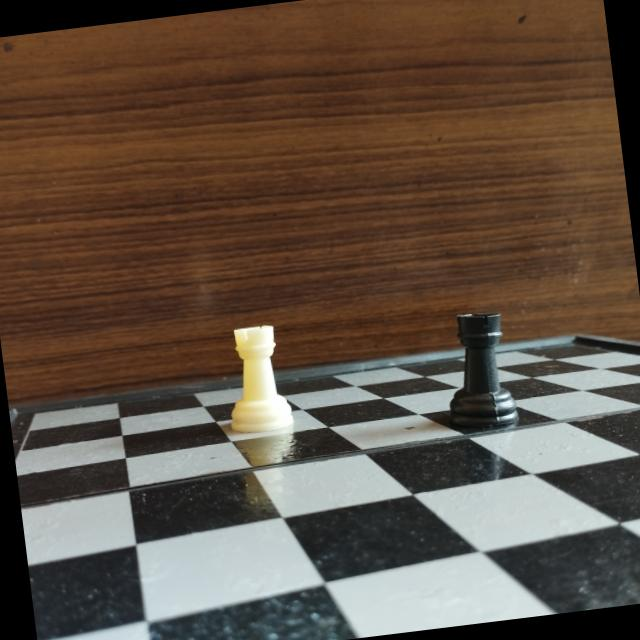Black Rook: (434, 296, 527, 438)
White Rook: (213, 314, 303, 444)
